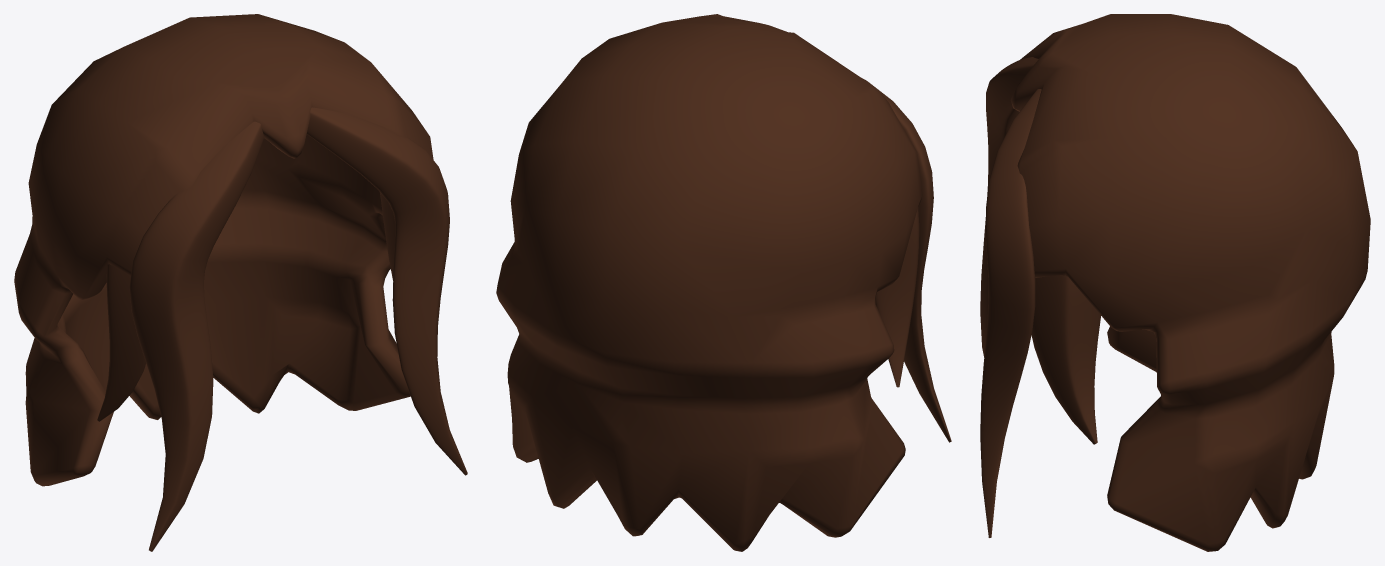
3 renders of one model, left to right at view 1: azimuth 30°, elevation 25°; view 2: azimuth 150°, elevation 25°; view 3: azimuth 270°, elevation 25°, orthographic.
Parts seen in each view (by area): view 1: hairLongBangs; view 2: hairLongBangs; view 3: hairLongBangs.
Boxes of the visible parts, box(x1,y1,x2,y2) form: hairLongBangs: box(14, 14, 467, 551); hairLongBangs: box(496, 14, 951, 551); hairLongBangs: box(980, 14, 1370, 551).
Size of the model in its own units: 0.5692 by 0.6418 by 0.5058.
1 material, 1 textured.
